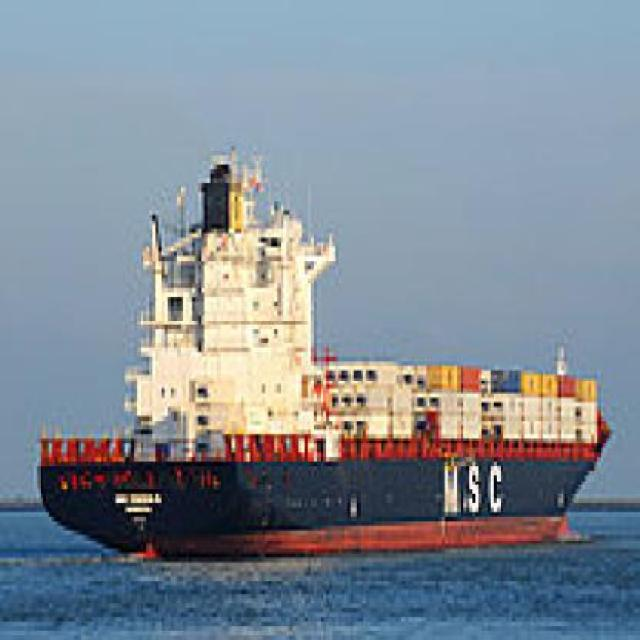container: (25, 125, 620, 572)
